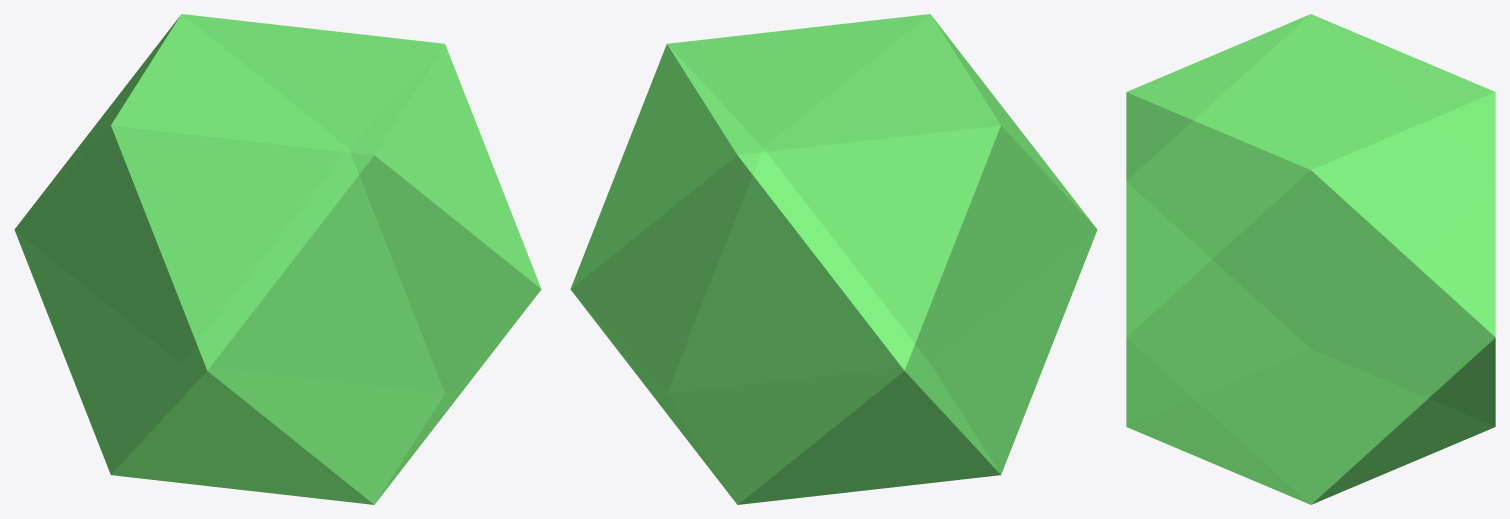
The model's file is Cuboctahedron1.obj.
3 views of the same model, side by side, from view 1: azimuth 30°, elevation 25°; view 2: azimuth 150°, elevation 25°; view 3: azimuth 270°, elevation 25° (orthographic). The views are drawn at different scales.
Bounding box in the file's own units: 1.41 × 1.41 × 1.41.
